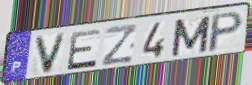4: (141, 20, 168, 60)
E: (65, 28, 103, 72)
M: (169, 14, 213, 58)
P: (205, 10, 246, 55)
V: (33, 31, 69, 76)
Z: (100, 22, 139, 68)
